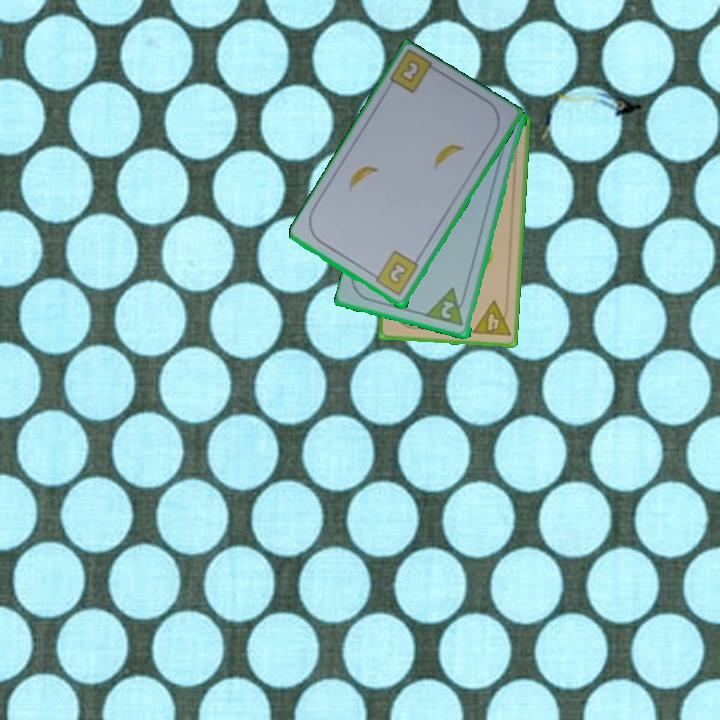2b: (368, 248, 421, 299), (396, 57, 423, 86)
2p: (437, 297, 458, 322)
4p: (469, 297, 513, 340)
